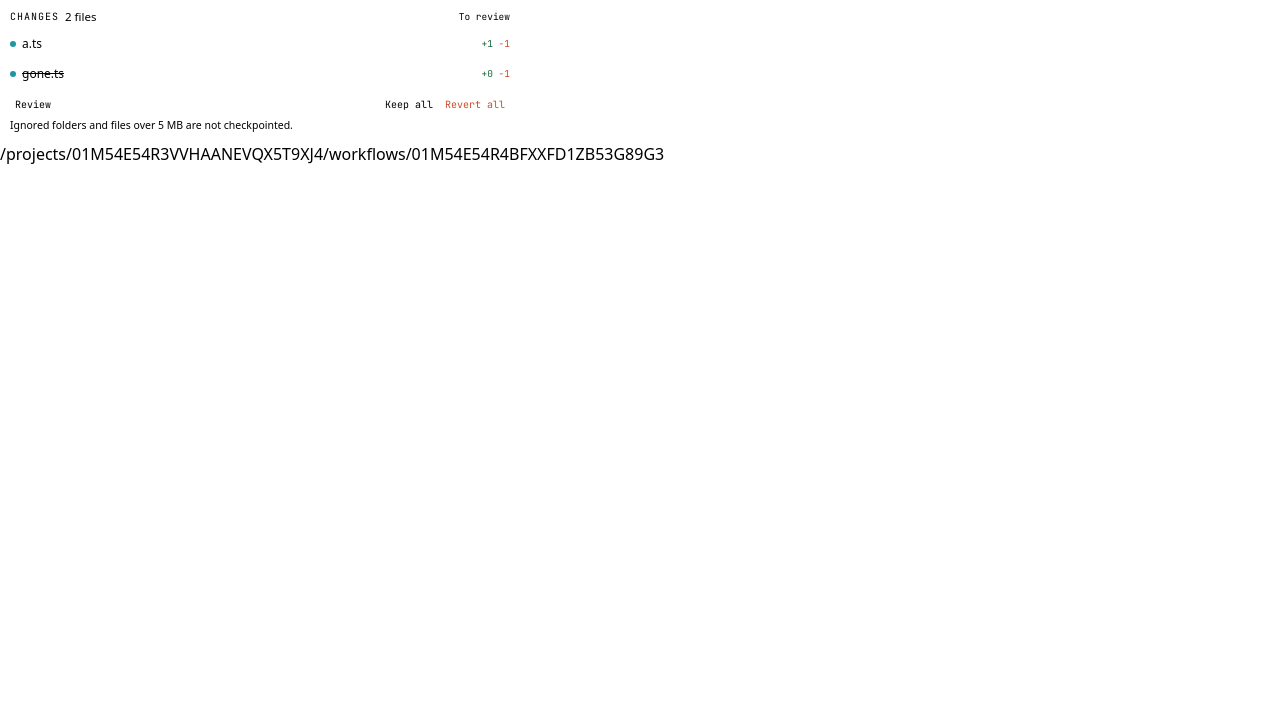
Scenario: D300 the Changes card under a chat turn › Revert all asks first, naming the count; Cancel reverts nothing (fix A-M9)
The image size is (1280, 720).
Click the button "Revert all" at {"x": 475, "y": 105}, box x1=440 y1=95 x2=510 y2=114
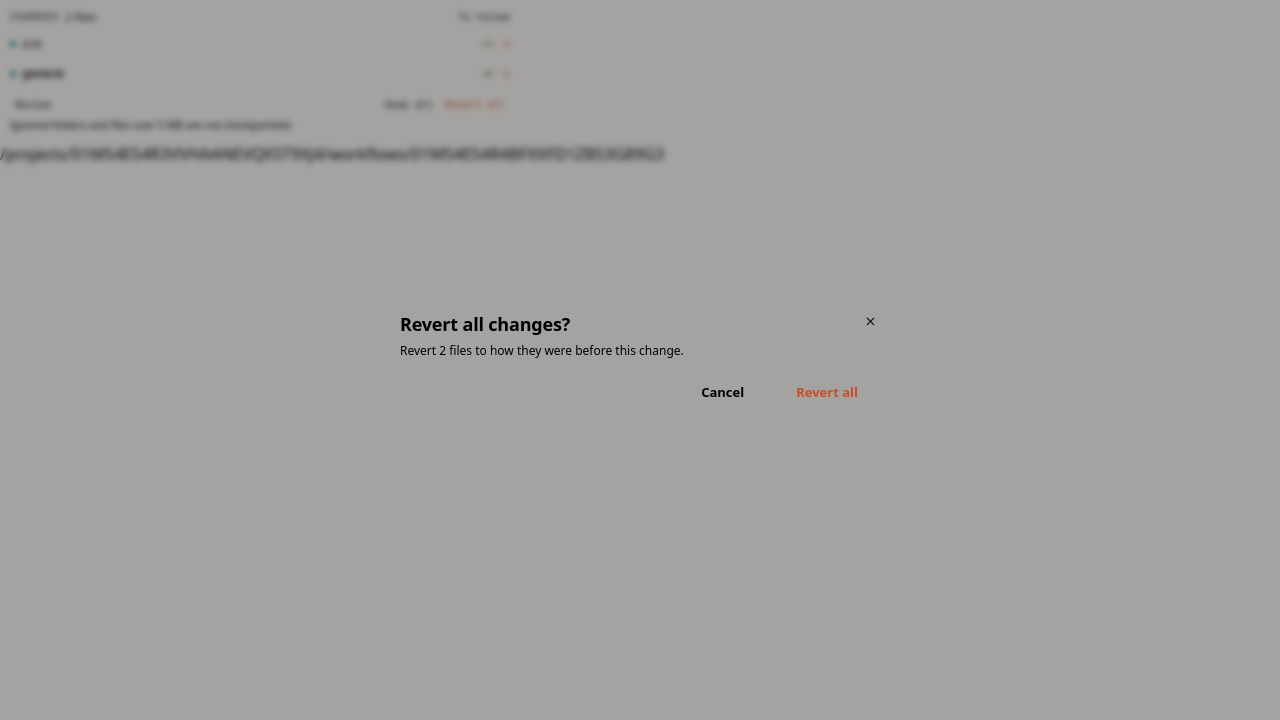
Expected: the dialog "Revert all changes?" does not show "deleted", x1=380 y1=291 x2=900 y2=429
Now the dialog "Revert all changes?" shows "Revert 2 files to how they were before this change.", box x1=400 y1=342 x2=684 y2=359
Click the button "Cancel" at {"x": 723, "y": 392}, box x1=679 y1=375 x2=766 y2=409
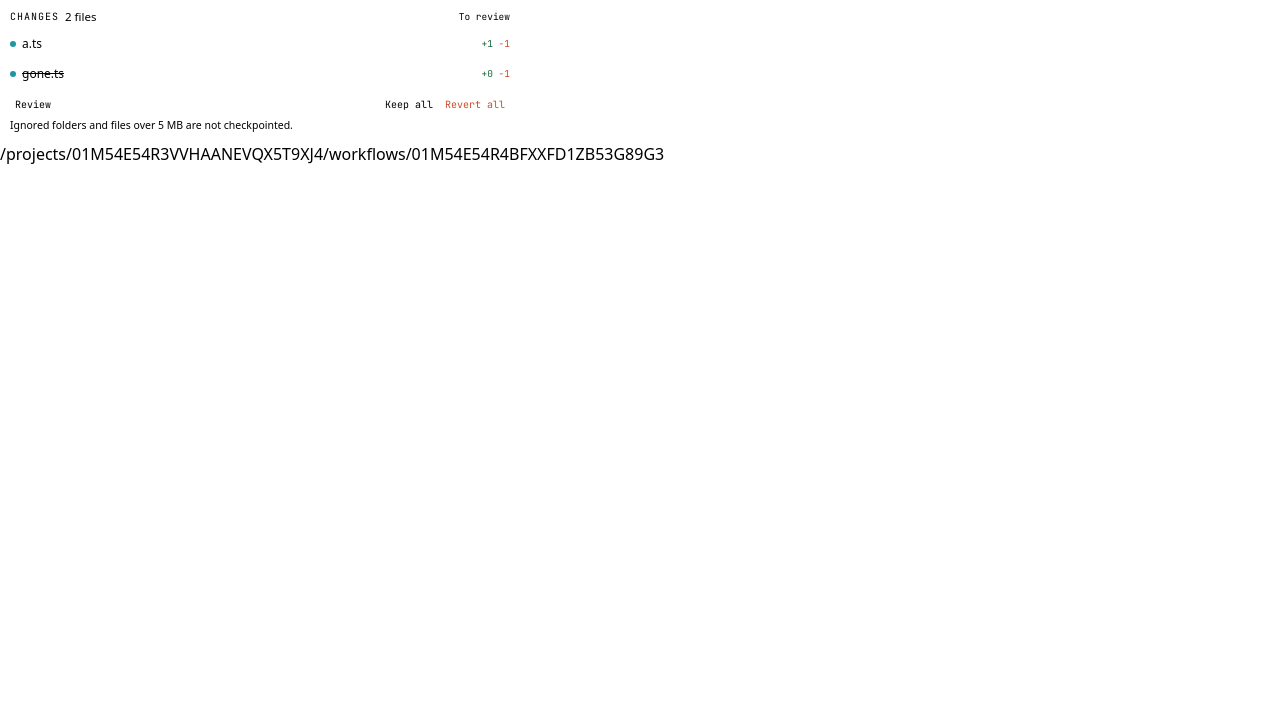
Expected: the element "CHANGES" shows "To review", x1=459 y1=10 x2=510 y2=22
Now the dialog is gone
